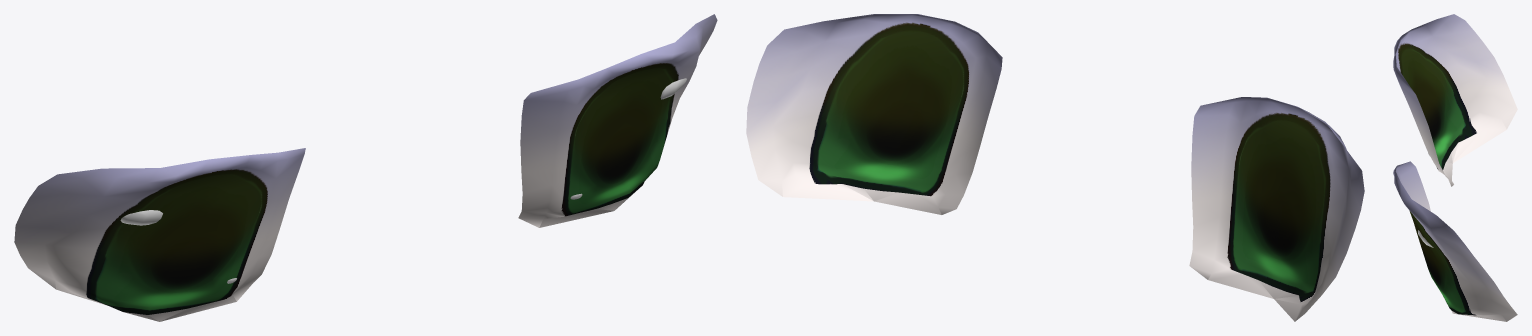
File: Green-Eyes2.fbx
3 renders of one model, left to right at view 1: azimuth 30°, elevation 25°; view 2: azimuth 150°, elevation 25°; view 3: azimuth 270°, elevation 25°, orthographic. The views are drawn at different scales.
Visible parts, largest first — view 1: カスタム少女_mesh; view 2: カスタム少女_mesh; view 3: カスタム少女_mesh.
Part boxes in pixels (box(x1,y1,x2,y2)): カスタム少女_mesh: box(14, 14, 717, 321); カスタム少女_mesh: box(746, 14, 1364, 321); カスタム少女_mesh: box(1393, 14, 1517, 321).
Bounding box in the file's own units: 14.62 × 3.84 × 3.41.
Materials: 2 (2 with a texture image).
